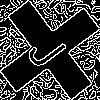J: (25, 25, 76, 72)
